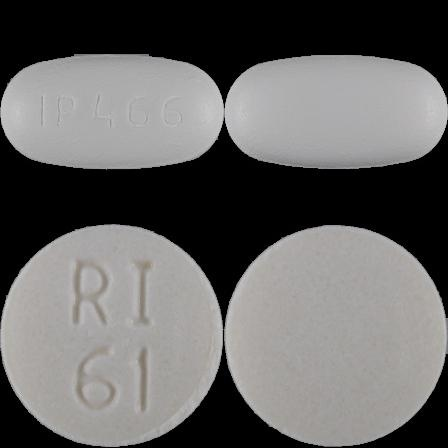50436-4606: (0, 0, 224, 224)
